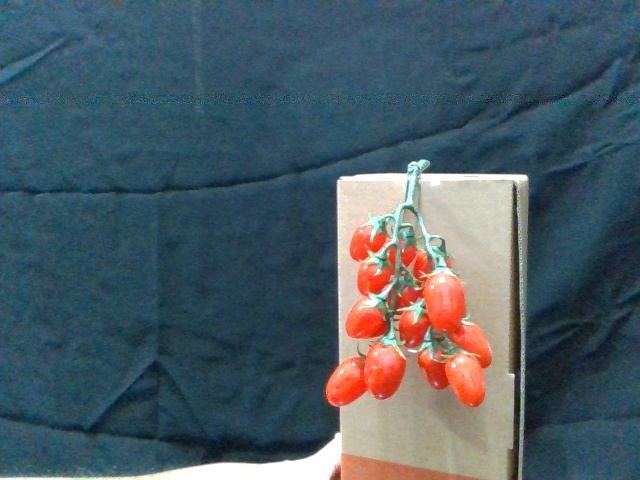tomato: (423, 266, 470, 330), (367, 334, 408, 402), (324, 353, 371, 408), (446, 351, 487, 410), (346, 292, 391, 340), (414, 342, 454, 392), (457, 318, 496, 368), (354, 250, 397, 292), (397, 296, 429, 347), (352, 218, 390, 260)
